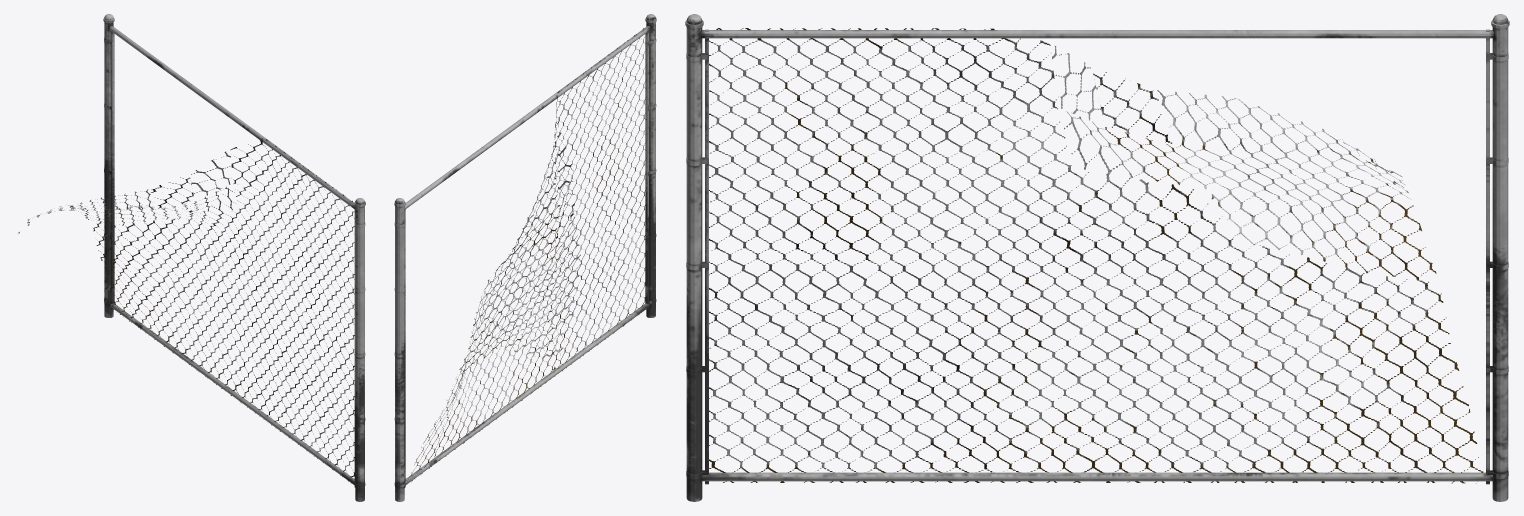
The model's file is Rejas4.fbx.
3 views of the same model, side by side, from view 1: azimuth 30°, elevation 25°; view 2: azimuth 150°, elevation 25°; view 3: azimuth 270°, elevation 25° (orthographic). The views are drawn at different scales.
Visible parts, largest first — view 1: Plane.006, Cylinder.012, Cylinder.014, Cube.004; view 2: Plane.006, Cylinder.012, Cylinder.014, Cube.004, Cylinder.013; view 3: Plane.006, Cylinder.012, Cylinder.014, Cube.004, Cylinder.013.
Boxes of the visible parts, left/top/right/bottom form: Plane.006: left=18, top=139, right=354, bottom=483; Cylinder.012: left=103, top=14, right=365, bottom=501; Cylinder.014: left=108, top=26, right=355, bottom=485; Cube.004: left=111, top=26, right=355, bottom=487; Plane.006: left=407, top=28, right=646, bottom=481; Cylinder.012: left=394, top=14, right=656, bottom=501; Cylinder.014: left=404, top=26, right=651, bottom=485; Cube.004: left=404, top=27, right=648, bottom=487; Cylinder.013: left=394, top=39, right=656, bottom=487; Plane.006: left=709, top=28, right=1483, bottom=483; Cylinder.012: left=685, top=14, right=1509, bottom=501; Cylinder.014: left=701, top=30, right=1493, bottom=481; Cube.004: left=705, top=29, right=1489, bottom=484; Cylinder.013: left=686, top=53, right=1508, bottom=479.
Bounding box in the file's own units: 92.82 × 206 × 318.
